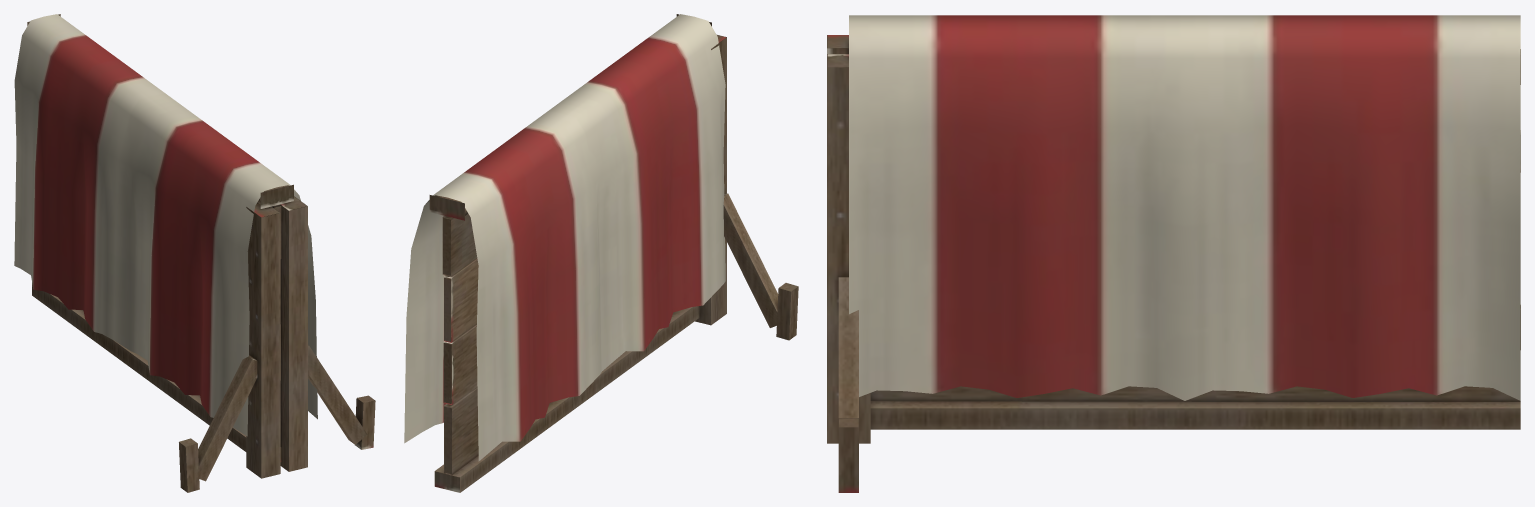
The model's file is tilt_barrier_512.glb.
3 renders of one model, left to right at view 1: azimuth 30°, elevation 25°; view 2: azimuth 150°, elevation 25°; view 3: azimuth 270°, elevation 25°, orthographic. The views are drawn at different scales.
Visible parts, largest first — view 1: tilt_cloth, tilt_barrier; view 2: tilt_cloth, tilt_barrier; view 3: tilt_cloth, tilt_barrier.
Boxes of the visible parts, x1,y1,x2,y2 form: tilt_cloth: (14,14,317,436); tilt_barrier: (27,14,375,492); tilt_cloth: (404,14,725,461); tilt_barrier: (429,14,798,492); tilt_cloth: (849,15,1520,400); tilt_barrier: (827,35,1520,492).
Size of the model in its own units: 0.9397 by 1.33 by 2.07.
1 material, 1 textured.
